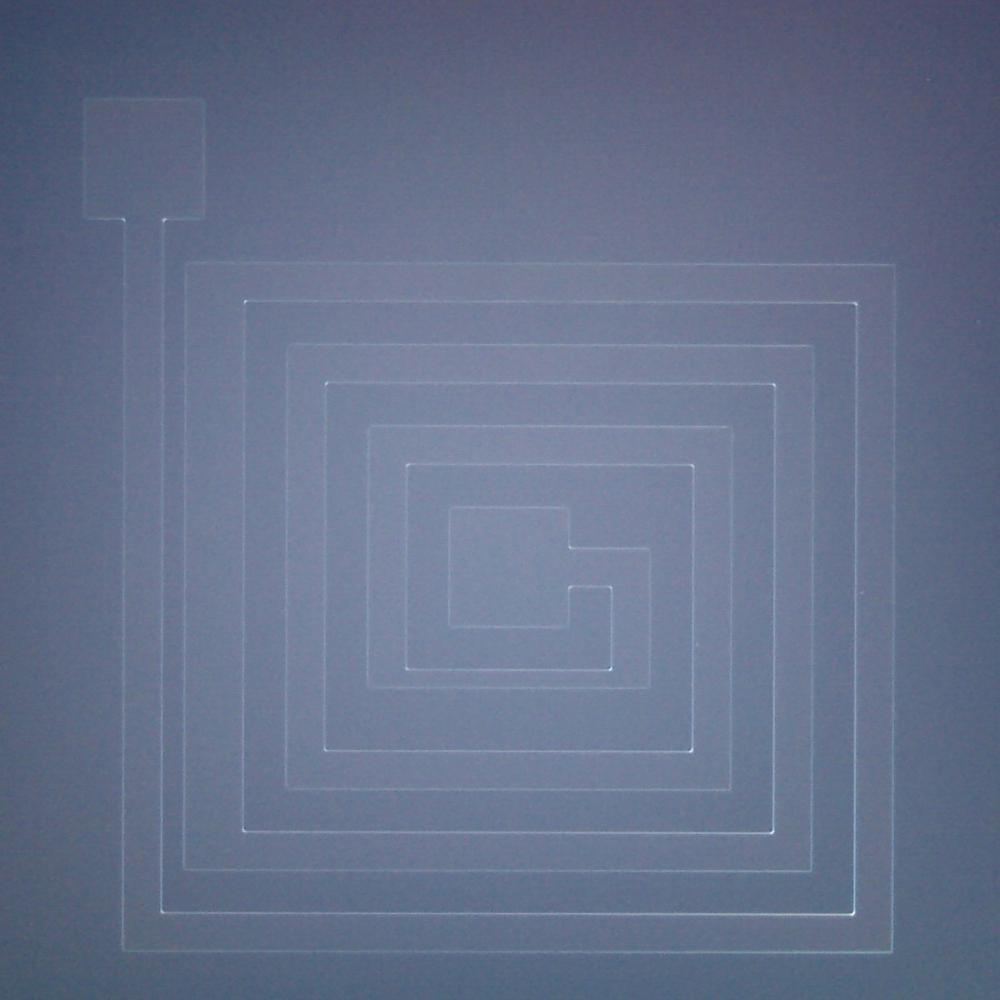fat circuit: (176, 244, 260, 889)
thin circuit: (351, 648, 674, 708)
